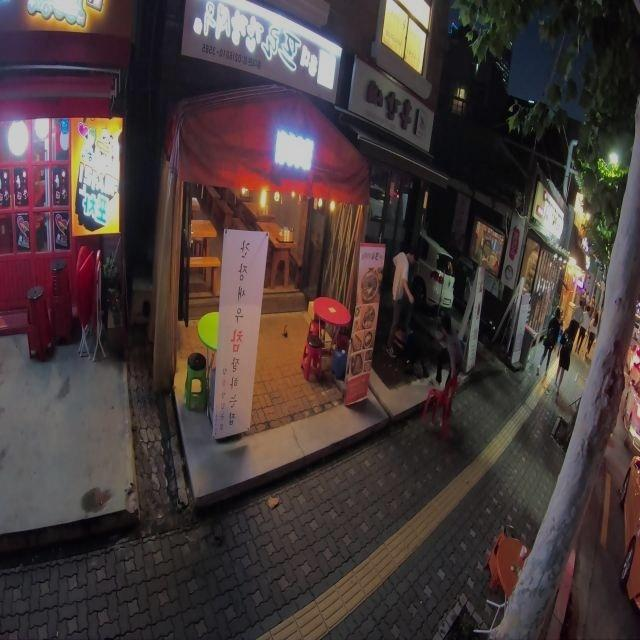fight: (386, 250, 446, 384)
non-fight: (553, 320, 579, 395), (536, 307, 562, 376)
